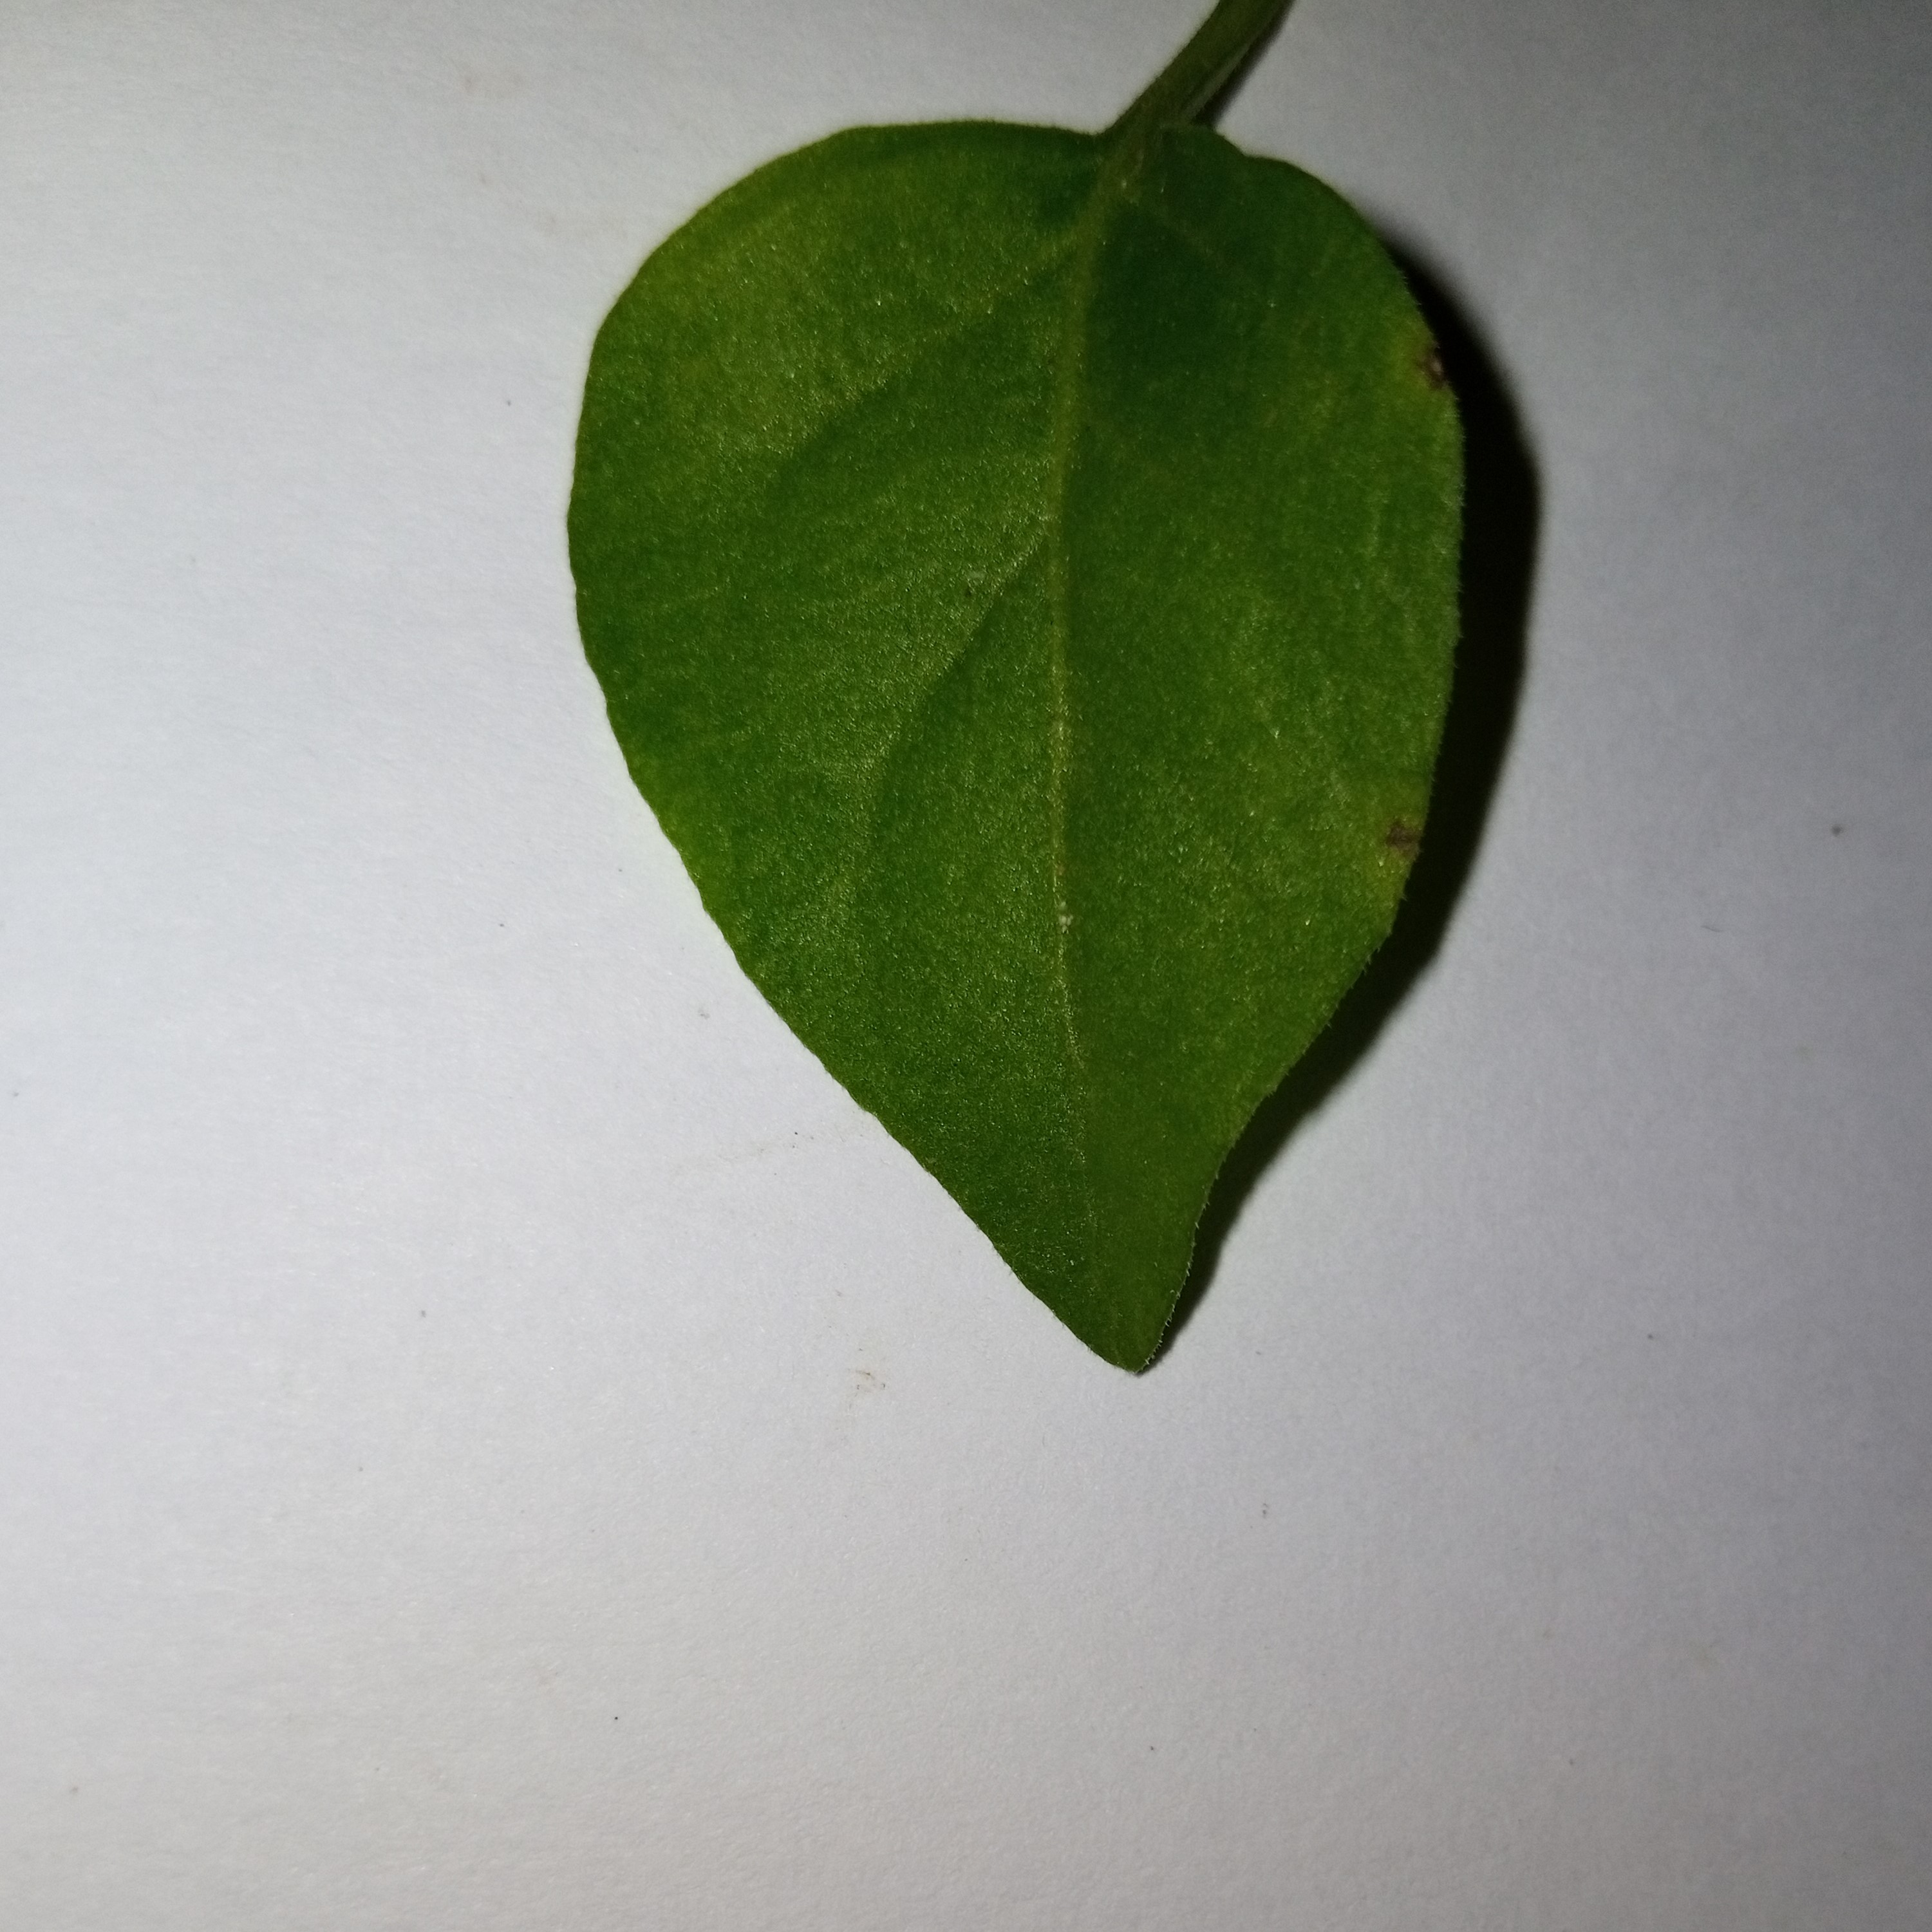Leaf: (400, 46, 1665, 1525)
